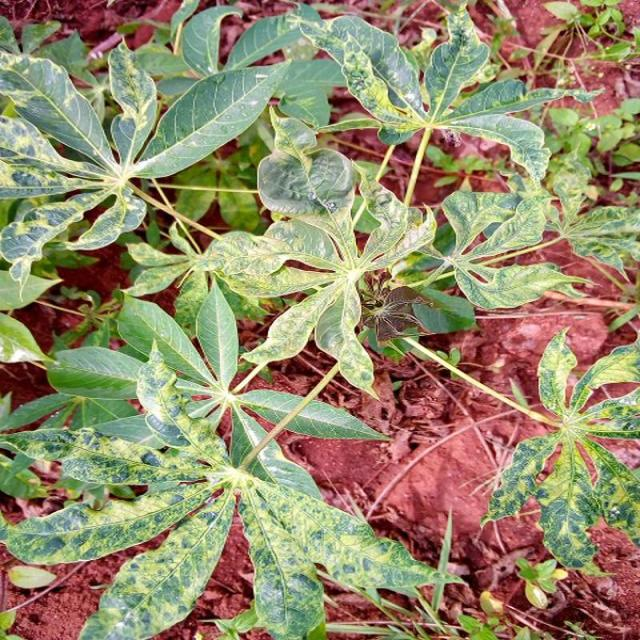cassava leaf: (1, 2, 634, 638), (1, 278, 466, 638), (480, 324, 638, 570)
